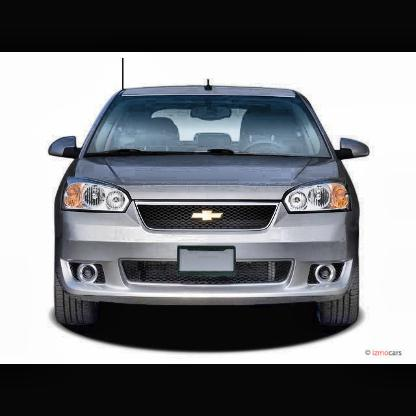Chevrolet Malibu Sedan 2007: (48, 59, 373, 330)
